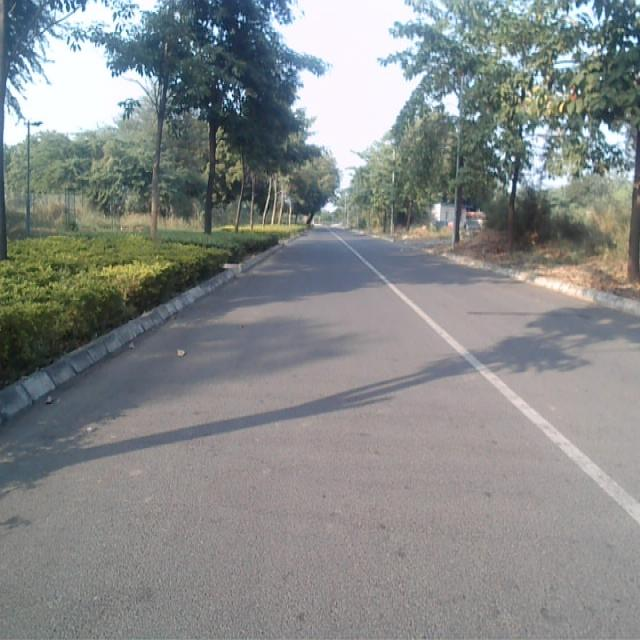lane: (0, 229, 640, 640)
